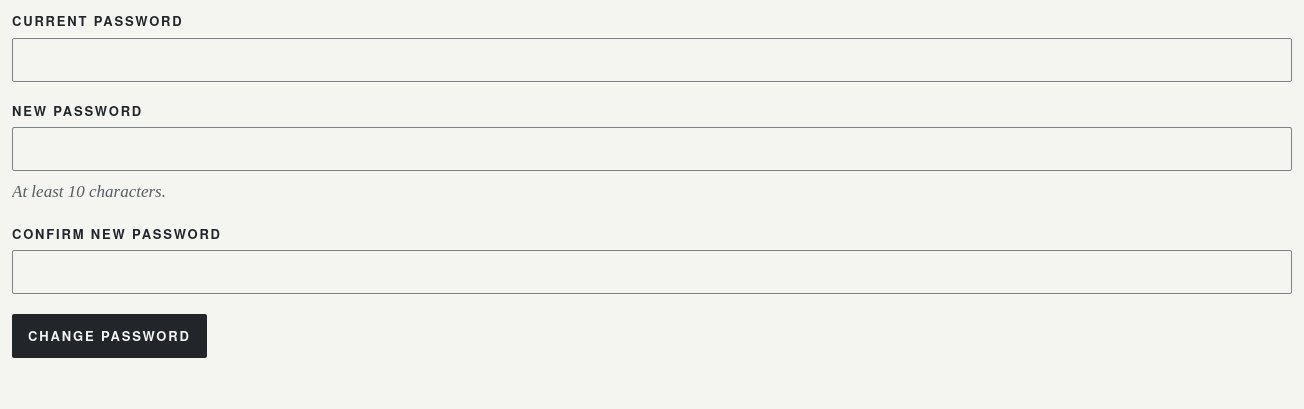
it: PasswordForm (own password) › flags a mismatch on the confirm field
Type "old-password" into the password field labelled "Current password" at coordinates (652, 60), box [12,38,1292,82]
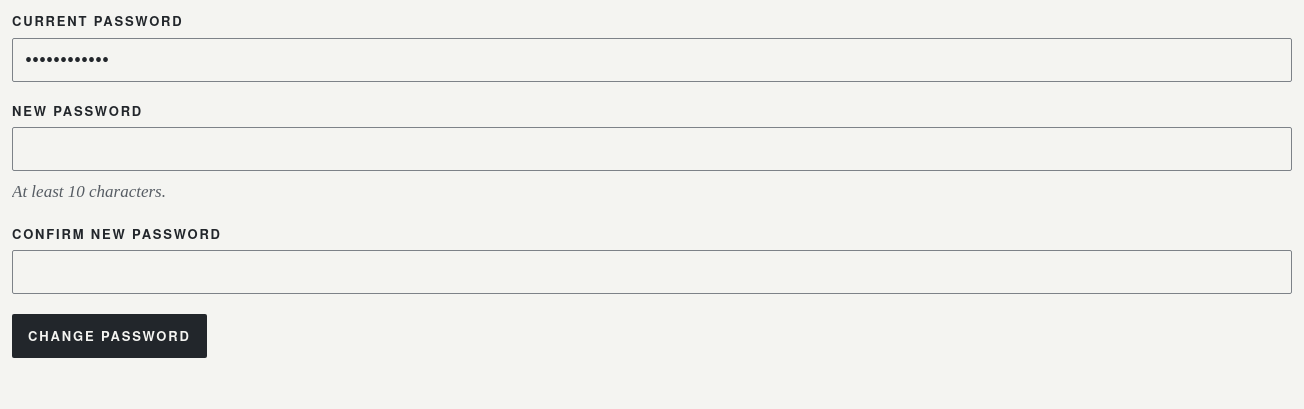
Type "new-password-1" into the password field labelled "New password" at coordinates (652, 149), box [12,127,1292,171]
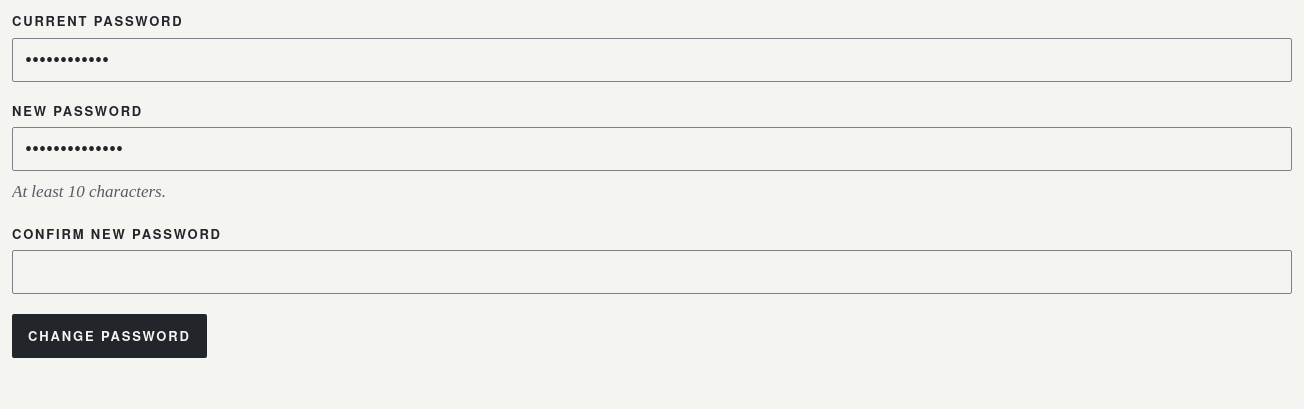
Type "new-password-2" into the password field labelled "Confirm new password" at coordinates (652, 272), box [12,250,1292,294]
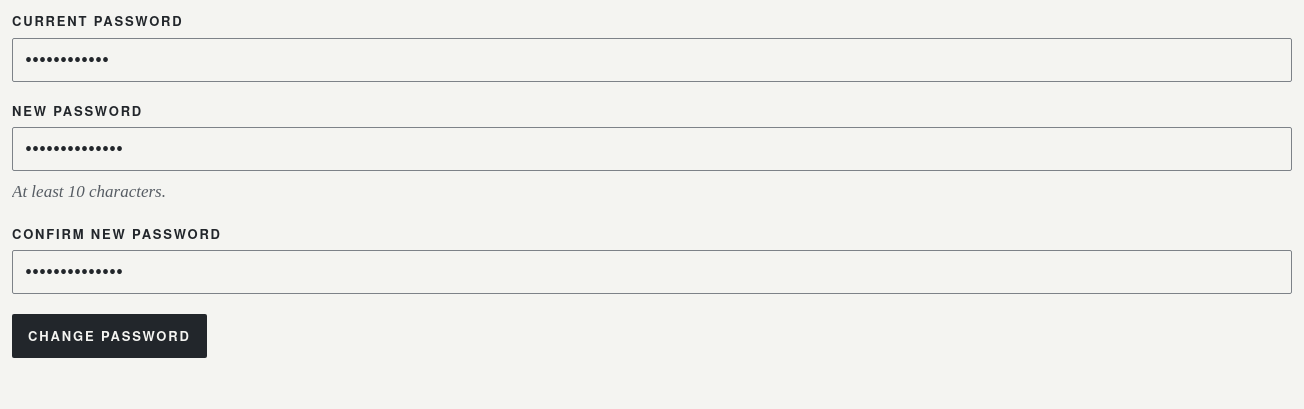
Submit the form
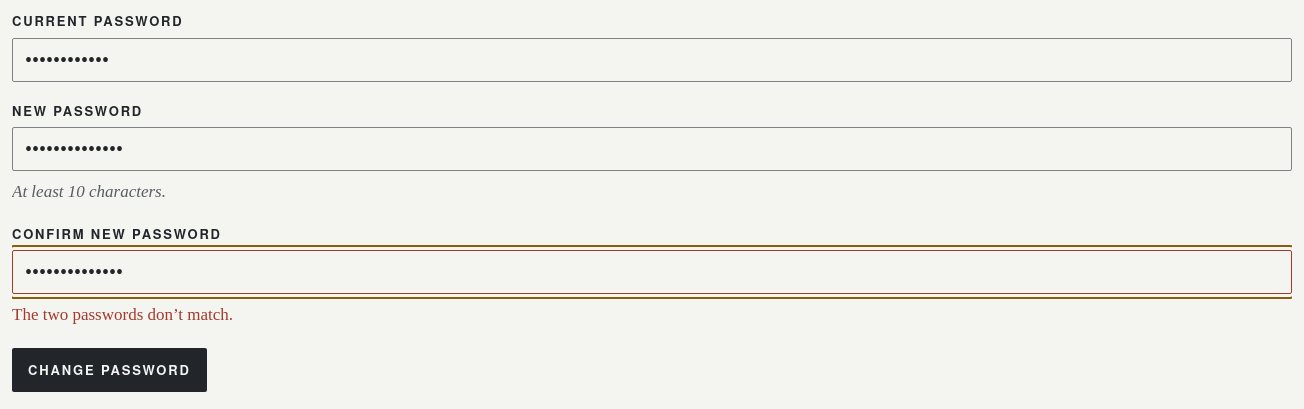
Expected: the text with id "own-confirm-msg" shows "don’t match", [12,305,233,324]
